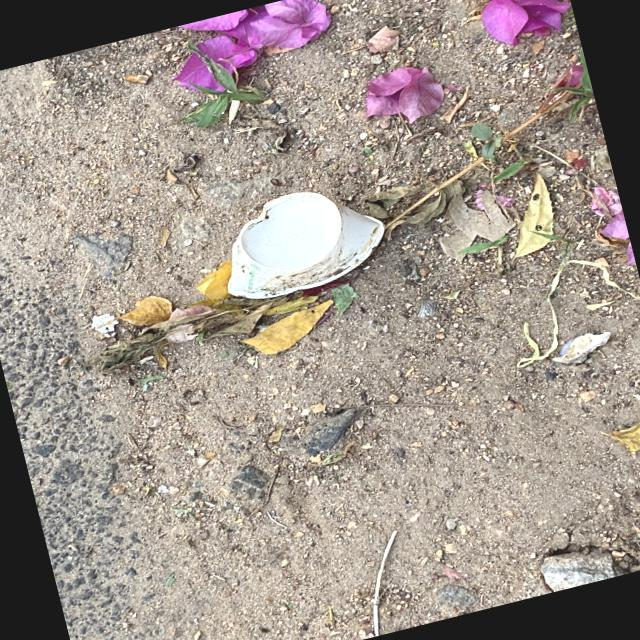ly_hop_giay: (227, 191, 384, 298)
